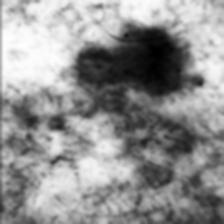Potentially Malignant Skin Tumors: (118, 22, 186, 88), (61, 57, 102, 119)
